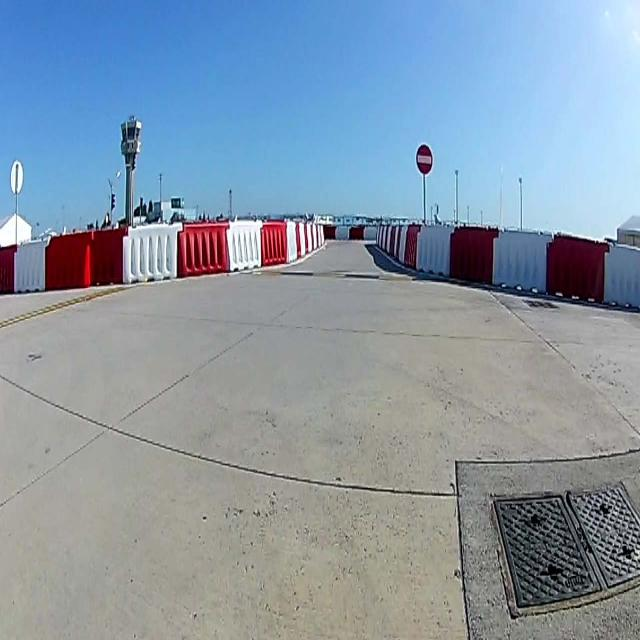girisyok: (417, 141, 433, 179)
